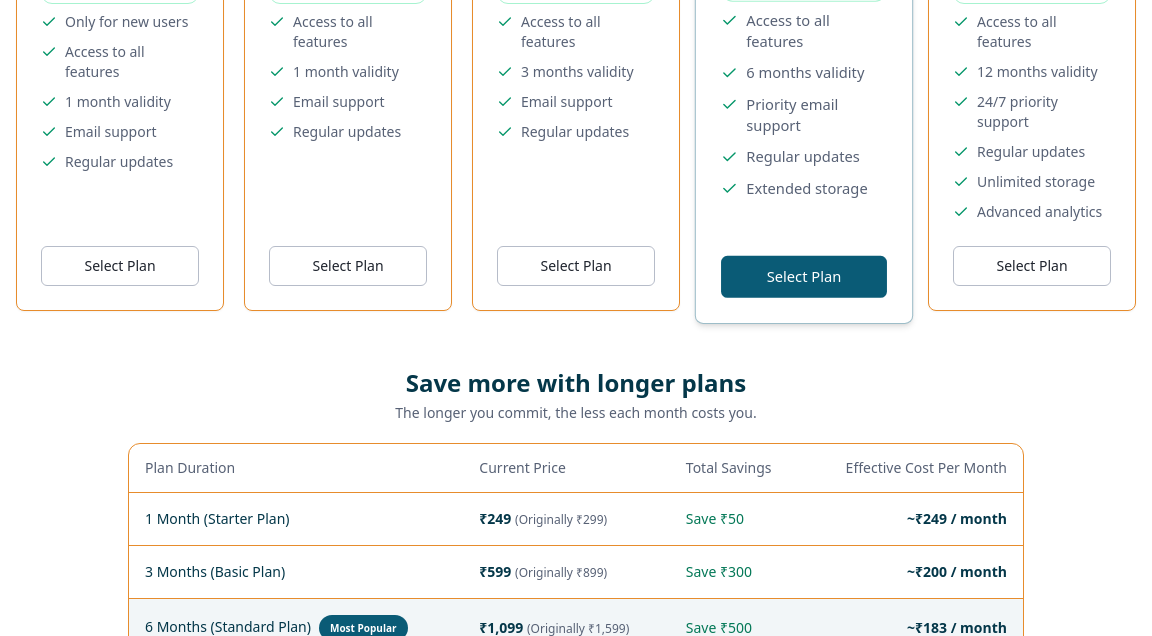
Test: /our-plans (logged out) → signup with the clicked plan › clicking 'Select Plan' on a plan opens signup with that exact plan chosen
(page scrolled)
Note: Find the 6-month card by its own heading, then click the button inside that card.
Step 1. Click the button "Select Plan" below "Extended storage" → (804, 277), box [721, 256, 887, 298]
(page scrolled)
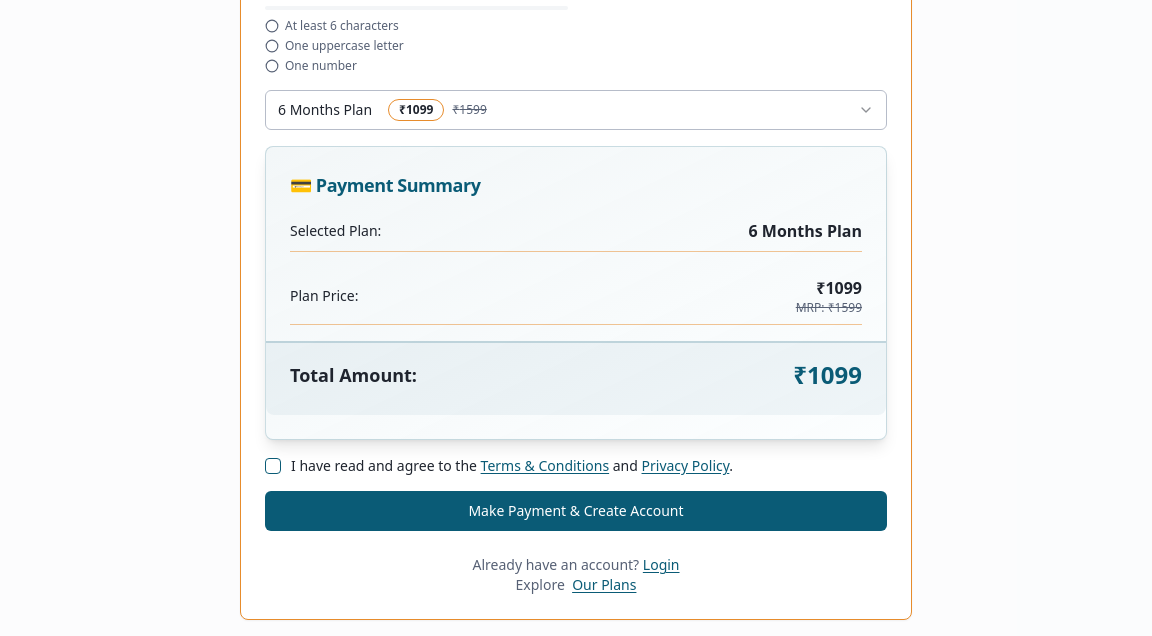
Check: the dropdown shows "6 Months Plan", box [265, 90, 887, 130]
